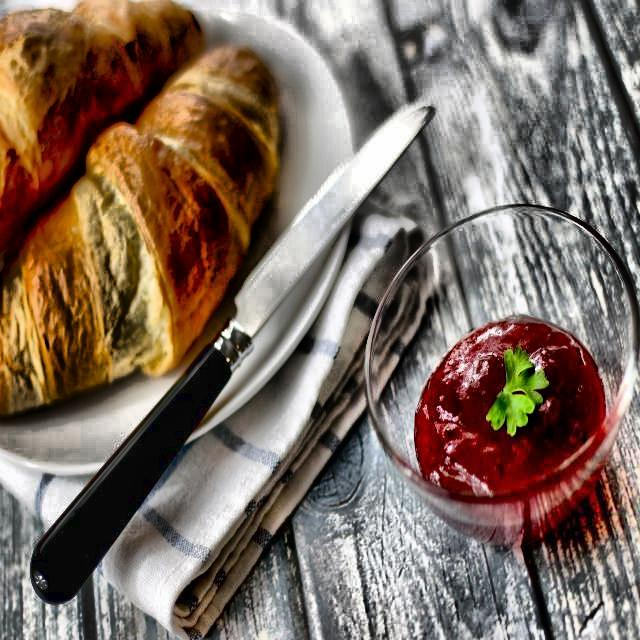knife: (28, 100, 436, 608)
